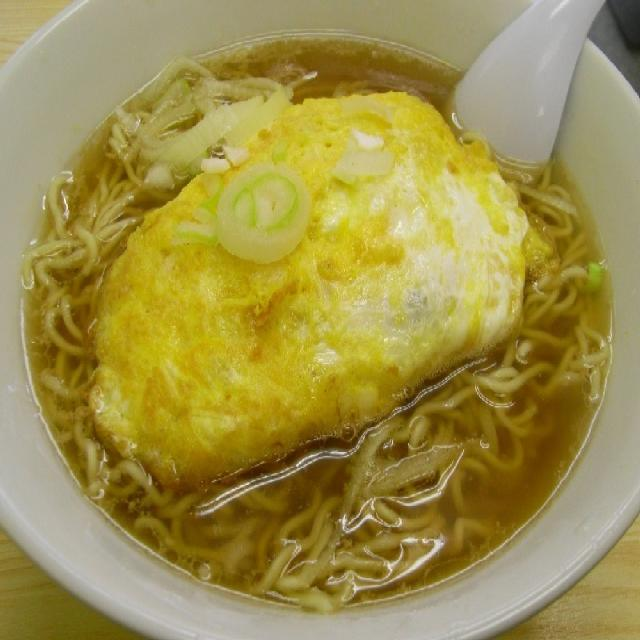面条主食: (2, 5, 638, 638)
